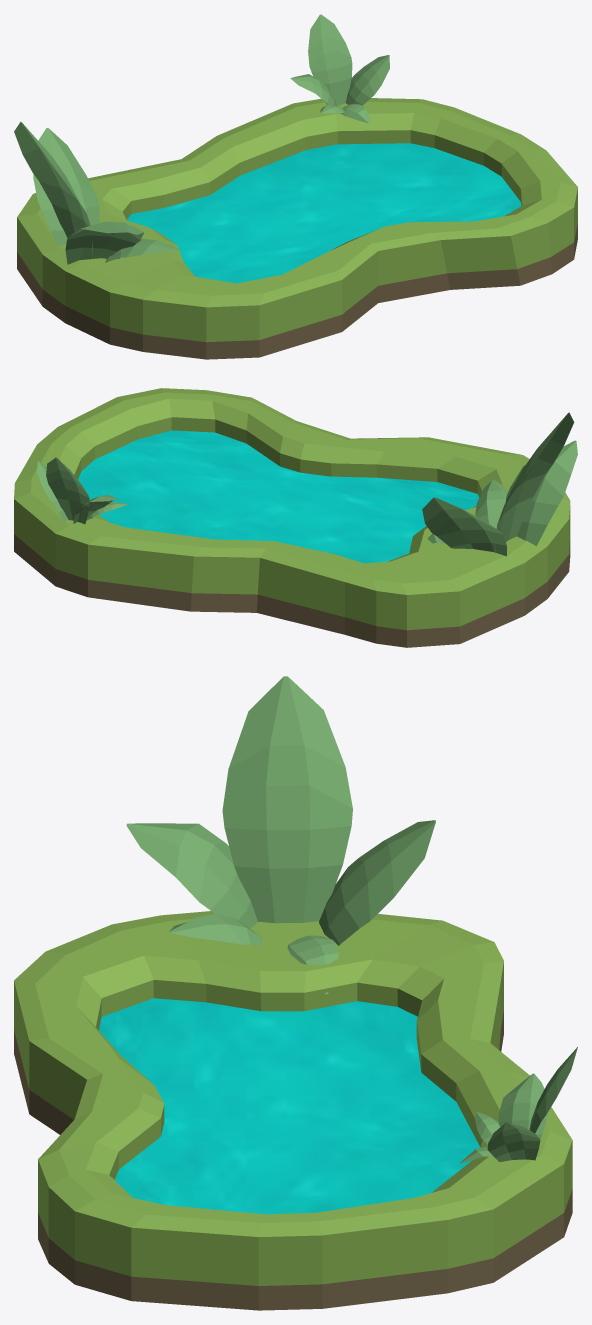
File: water.glb
3 renders of one model, top to bottom at view 1: azimuth 30°, elevation 25°; view 2: azimuth 150°, elevation 25°; view 3: azimuth 270°, elevation 25°, orthographic. The views are drawn at different scales.
Visible parts, largest first — view 1: Cube.086, Plane.080, Plane.083, Plane.088, Plane.084, Plane.085, Plane.087, Plane.081, Plane.086; view 2: Cube.086, Plane.080, Plane.083, Plane.084, Plane.085, Plane.088, Plane.081, Plane.087, Plane.086; view 3: Cube.086, Plane.080, Plane.083, Plane.085, Plane.084, Plane.081, Plane.086, Plane.087, Plane.082, Plane.088.
Part boxes in pixels (x1,y1,x2,y2): Cube.086: (17,98,577,359); Plane.080: (127,143,521,283); Plane.083: (14,121,92,258); Plane.088: (308,14,352,105); Plane.084: (33,128,99,245); Plane.085: (65,221,144,264); Plane.087: (345,55,389,105); Plane.081: (105,239,178,262); Plane.086: (290,74,336,105); Cube.086: (14,388,570,647); Plane.080: (78,430,479,563); Plane.083: (495,412,574,552); Plane.084: (422,497,506,556); Plane.085: (505,440,577,545); Plane.088: (46,457,89,524); Plane.081: (475,480,507,528); Plane.087: (37,461,68,521); Plane.086: (73,495,119,523); Cube.086: (14,911,572,1310); Plane.080: (99,998,480,1214); Plane.083: (222,676,352,923); Plane.085: (126,823,257,927); Plane.084: (319,820,435,945); Plane.081: (169,914,262,945); Plane.086: (498,1073,548,1139); Plane.087: (487,1122,540,1161); Plane.082: (287,935,338,994); Plane.088: (526,1047,577,1159).
Size of the model in its own units: 6.74 by 2.51 by 4.54.
13 materials, 1 textured.
